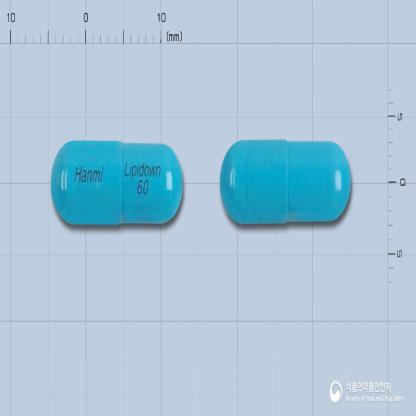pill: (48, 138, 184, 226), (218, 138, 352, 226)
